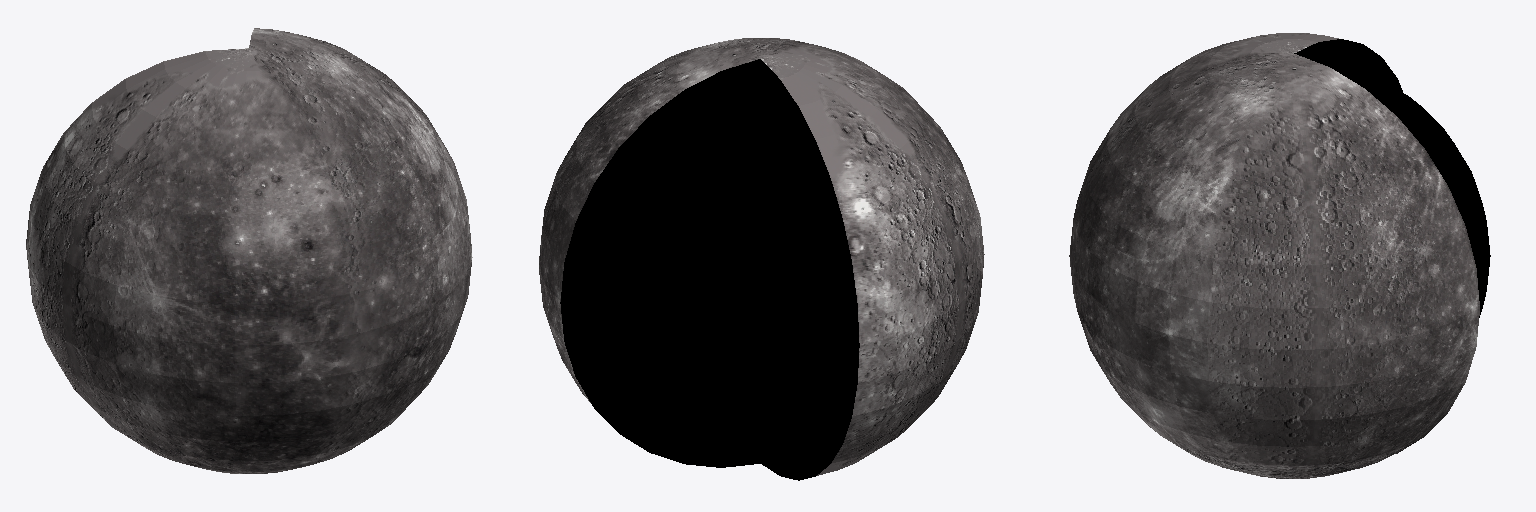
The picture shows the model from 3 angles: view 1: azimuth 30°, elevation 25°; view 2: azimuth 150°, elevation 25°; view 3: azimuth 270°, elevation 25°; orthographic projection.
Visible parts, largest first — view 1: Sphere; view 2: Sphere; view 3: Sphere.
Boxes of the visible parts, x1=… form: Sphere: x1=26, y1=28, x2=472, y2=473; Sphere: x1=539, y1=38, x2=984, y2=480; Sphere: x1=1069, y1=33, x2=1490, y2=478.
Size of the model in its own units: 4.88 by 4.88 by 4.6.
4 materials, 1 textured.